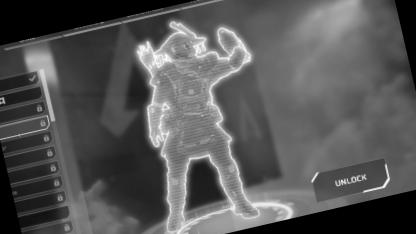Target: (123, 11, 250, 216)
